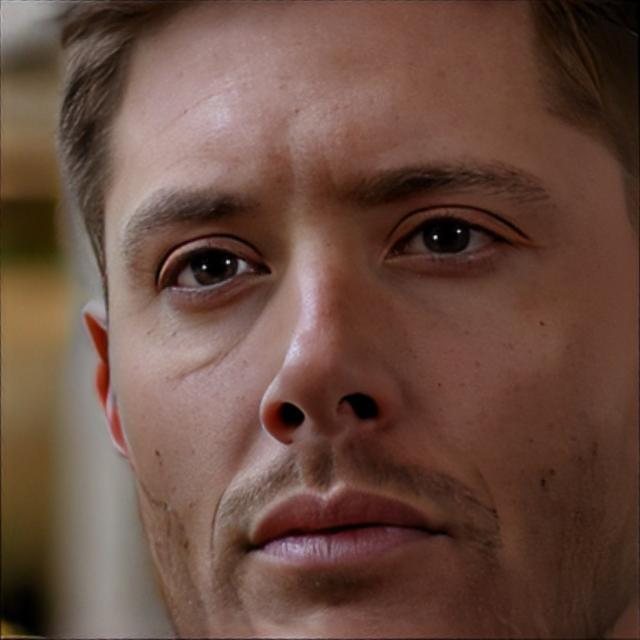sad: (102, 0, 640, 632)
